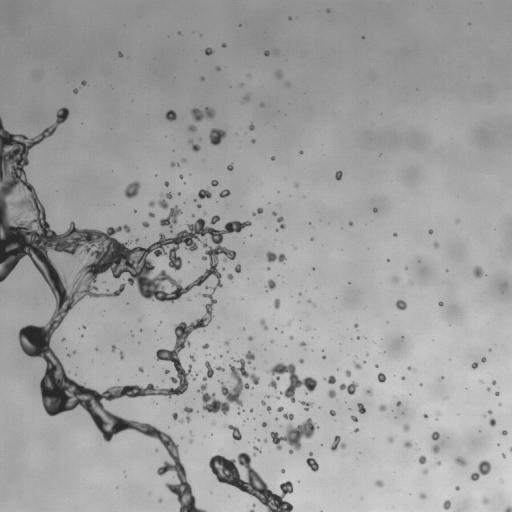droplet: (190, 106, 215, 122), (209, 128, 226, 145), (124, 181, 140, 199), (339, 381, 358, 395), (330, 435, 346, 451), (264, 278, 276, 292), (187, 139, 200, 151), (165, 109, 176, 121), (472, 266, 483, 278), (395, 299, 407, 310), (454, 456, 467, 466), (276, 216, 285, 230), (200, 117, 211, 128), (4, 122, 15, 133), (26, 128, 37, 139), (200, 137, 211, 148), (26, 148, 37, 159), (166, 170, 177, 181), (183, 202, 194, 213), (128, 218, 139, 229), (172, 222, 183, 233), (152, 223, 163, 234), (54, 224, 65, 235), (132, 224, 143, 235), (114, 231, 125, 242), (222, 232, 233, 243), (19, 255, 30, 266), (224, 259, 235, 270), (40, 282, 51, 293), (47, 294, 58, 305), (35, 316, 46, 327), (204, 322, 215, 333), (188, 329, 199, 340), (293, 346, 304, 357), (176, 349, 187, 360), (34, 356, 45, 367), (295, 368, 306, 379), (350, 370, 361, 381), (259, 372, 270, 383), (335, 372, 346, 383), (225, 377, 236, 388), (187, 379, 198, 390), (316, 380, 327, 391), (206, 382, 217, 393), (294, 385, 305, 396), (238, 389, 249, 400), (306, 390, 317, 401), (353, 390, 364, 401), (192, 398, 203, 409), (326, 398, 337, 409), (337, 409, 348, 420), (134, 412, 145, 423), (292, 415, 303, 426), (119, 428, 130, 439), (236, 441, 247, 452), (225, 449, 236, 460), (443, 457, 454, 468), (428, 465, 439, 476), (184, 471, 195, 482), (448, 491, 459, 502), (323, 375, 336, 384), (357, 402, 366, 414), (241, 92, 250, 103), (377, 372, 386, 383), (272, 297, 280, 309), (443, 499, 451, 511), (431, 444, 440, 454), (219, 189, 230, 197), (364, 387, 373, 396), (327, 389, 336, 398), (418, 455, 427, 464), (211, 42, 220, 51), (249, 96, 258, 105), (186, 115, 195, 124), (171, 166, 180, 175), (210, 186, 219, 195), (160, 208, 169, 217), (150, 217, 159, 226), (215, 221, 224, 230), (269, 288, 278, 297), (289, 339, 298, 348), (32, 386, 41, 395), (216, 393, 225, 402), (280, 396, 289, 405), (386, 399, 395, 408), (58, 410, 67, 419), (120, 411, 129, 420), (82, 412, 91, 421), (263, 413, 272, 422), (398, 415, 407, 424), (86, 418, 95, 427), (494, 421, 503, 430), (267, 422, 276, 431), (277, 427, 286, 436), (402, 431, 411, 440), (298, 435, 307, 444), (150, 436, 159, 445), (394, 437, 403, 446), (423, 449, 432, 458), (249, 459, 258, 468), (229, 485, 238, 494), (282, 493, 291, 502), (204, 47, 214, 55), (274, 69, 282, 79), (187, 124, 197, 132), (431, 431, 439, 441), (374, 479, 384, 487), (210, 179, 221, 186), (234, 262, 241, 273), (378, 403, 386, 412), (488, 418, 496, 427), (402, 423, 410, 432), (386, 435, 395, 443), (403, 440, 412, 448), (335, 170, 342, 180), (189, 352, 196, 362), (257, 505, 268, 511), (350, 415, 358, 423), (344, 369, 351, 378), (470, 362, 478, 369), (276, 406, 284, 413), (419, 492, 427, 499), (481, 496, 488, 504), (170, 161, 179, 167), (227, 162, 233, 171), (227, 273, 233, 282), (392, 276, 399, 283), (281, 74, 288, 81), (277, 78, 284, 85), (73, 80, 80, 87), (78, 85, 85, 92), (239, 88, 246, 95), (213, 111, 220, 118), (50, 114, 57, 121), (65, 114, 72, 121), (193, 120, 200, 127), (59, 121, 66, 128), (215, 123, 222, 130), (248, 130, 255, 137), (219, 137, 226, 144), (127, 176, 134, 183), (119, 184, 126, 191), (161, 186, 168, 193), (136, 187, 143, 194), (36, 193, 43, 200), (119, 193, 126, 200), (152, 195, 159, 202), (128, 196, 135, 203), (167, 200, 174, 207), (226, 215, 233, 222), (145, 216, 152, 223), (189, 217, 196, 224), (203, 220, 210, 227), (75, 223, 82, 230), (86, 223, 93, 230), (100, 226, 107, 233), (164, 231, 171, 238), (126, 242, 133, 249), (273, 248, 280, 255), (217, 252, 224, 259), (13, 264, 20, 271), (481, 266, 488, 273), (9, 269, 16, 276), (467, 270, 474, 277), (220, 275, 227, 282), (472, 276, 479, 283), (273, 277, 280, 284), (299, 295, 306, 302), (20, 320, 27, 327), (283, 329, 290, 336), (350, 329, 357, 336), (281, 333, 288, 340), (282, 359, 289, 366), (268, 360, 275, 367), (181, 363, 188, 370), (200, 367, 207, 374), (350, 367, 357, 374), (212, 369, 219, 376), (253, 369, 260, 376), (402, 369, 409, 376), (310, 372, 317, 379), (297, 373, 304, 380), (343, 378, 350, 385), (331, 382, 338, 389), (490, 384, 497, 391), (205, 387, 212, 394), (195, 392, 202, 399), (121, 394, 128, 401), (158, 394, 165, 401), (99, 397, 106, 404), (111, 397, 118, 404), (228, 400, 235, 407), (242, 402, 249, 409), (75, 404, 82, 411), (270, 404, 277, 411), (352, 409, 359, 416), (177, 411, 184, 418), (482, 417, 489, 424), (350, 421, 357, 428), (155, 423, 162, 430), (312, 428, 319, 435), (95, 430, 102, 437), (111, 433, 118, 440), (171, 435, 178, 442), (327, 437, 334, 444), (245, 448, 252, 455), (434, 452, 441, 459), (460, 452, 467, 459), (167, 457, 174, 464), (179, 457, 186, 464), (454, 463, 461, 470), (472, 465, 479, 472), (488, 468, 495, 475), (260, 474, 267, 481), (172, 477, 179, 484), (220, 481, 227, 488), (189, 482, 196, 489), (275, 488, 282, 495), (249, 495, 256, 502), (193, 501, 200, 508), (174, 502, 181, 509), (248, 122, 254, 130), (247, 335, 255, 341), (224, 338, 230, 346), (503, 505, 511, 511), (147, 212, 156, 217), (506, 451, 511, 460), (142, 221, 149, 227), (433, 241, 439, 248), (202, 343, 209, 349), (329, 409, 335, 416), (261, 421, 268, 427), (353, 323, 358, 331), (111, 344, 116, 352), (264, 50, 270, 56), (293, 182, 299, 188), (438, 376, 444, 382), (396, 400, 402, 406), (353, 427, 359, 433), (81, 80, 88, 85), (287, 335, 294, 340), (500, 430, 507, 435), (118, 51, 123, 57), (259, 102, 265, 107), (164, 181, 169, 187), (348, 220, 353, 226), (292, 244, 297, 250), (408, 280, 413, 286), (286, 320, 291, 326), (305, 325, 310, 331), (298, 358, 304, 363), (138, 366, 143, 372), (494, 391, 500, 396), (422, 413, 428, 418), (501, 452, 506, 458), (454, 485, 460, 490), (157, 497, 162, 503), (507, 428, 511, 435), (507, 500, 511, 507), (446, 507, 453, 511), (221, 42, 226, 47), (285, 82, 290, 87), (181, 158, 186, 163), (196, 203, 201, 208), (372, 207, 377, 212), (272, 211, 277, 216), (455, 218, 460, 223), (428, 229, 433, 234), (309, 236, 314, 241), (438, 301, 443, 306), (481, 357, 486, 362), (491, 380, 496, 385), (486, 386, 491, 391), (261, 400, 266, 405), (263, 438, 268, 443), (280, 468, 285, 473), (200, 46, 205, 51), (208, 53, 213, 58), (248, 94, 253, 99), (206, 102, 211, 107), (59, 103, 64, 108), (193, 103, 198, 108), (199, 106, 204, 111), (163, 107, 168, 112), (173, 108, 178, 113), (164, 118, 169, 123), (170, 119, 175, 124), (253, 125, 258, 130), (39, 126, 44, 131), (42, 137, 47, 142), (192, 139, 197, 144), (214, 143, 219, 148), (187, 144, 192, 149), (190, 149, 195, 154), (172, 157, 177, 162), (165, 161, 170, 166), (232, 163, 237, 168), (22, 165, 27, 170), (172, 165, 177, 170), (26, 178, 31, 183), (171, 191, 176, 196), (193, 193, 198, 198), (146, 196, 151, 201), (202, 196, 207, 201), (164, 197, 169, 202), (196, 197, 201, 202), (258, 203, 263, 208), (177, 204, 182, 209), (149, 207, 154, 212), (275, 212, 280, 217), (272, 215, 277, 220), (45, 217, 50, 222), (239, 218, 244, 223), (118, 221, 123, 226), (343, 221, 348, 226), (284, 223, 289, 228), (112, 224, 117, 229), (128, 224, 133, 229), (240, 227, 245, 232), (120, 228, 125, 233), (129, 228, 134, 233), (231, 230, 236, 235), (170, 233, 175, 238), (154, 236, 159, 241), (436, 238, 441, 243), (219, 241, 224, 246), (143, 243, 148, 248), (428, 243, 433, 248), (234, 254, 239, 259), (262, 255, 267, 260), (273, 258, 278, 263), (31, 265, 36, 270), (215, 265, 220, 270), (240, 266, 245, 271), (231, 270, 236, 275), (36, 272, 41, 277), (480, 274, 485, 279), (263, 280, 268, 285), (215, 286, 220, 291), (211, 294, 216, 299), (393, 296, 398, 301), (401, 296, 406, 301), (310, 297, 315, 302), (269, 300, 274, 305), (279, 300, 284, 305), (405, 301, 410, 306), (306, 302, 311, 307), (211, 303, 216, 308), (393, 306, 398, 311), (274, 308, 279, 313), (396, 308, 401, 313), (254, 319, 259, 324), (264, 320, 269, 325), (290, 320, 295, 325), (348, 323, 353, 328), (258, 324, 263, 329), (268, 325, 273, 330), (277, 325, 282, 330), (197, 326, 202, 331), (14, 329, 19, 334), (263, 329, 268, 334), (307, 330, 312, 335), (249, 331, 254, 336), (286, 339, 291, 344), (222, 344, 227, 349), (17, 346, 22, 351), (203, 348, 208, 353), (222, 352, 227, 357), (253, 352, 258, 357), (299, 353, 304, 358), (25, 354, 30, 359), (362, 355, 367, 360), (206, 356, 211, 361), (468, 359, 473, 364), (477, 361, 482, 366), (209, 362, 214, 367), (235, 362, 240, 367), (360, 363, 365, 368), (225, 366, 230, 371), (375, 368, 380, 373), (384, 373, 389, 378), (206, 377, 211, 382), (199, 379, 204, 384), (248, 381, 253, 386), (487, 382, 492, 387), (268, 385, 273, 390), (313, 385, 318, 390), (227, 386, 232, 391), (354, 386, 359, 391), (241, 387, 246, 392), (342, 388, 347, 393), (171, 393, 176, 398), (177, 393, 182, 398), (280, 393, 285, 398), (349, 393, 354, 398), (136, 395, 141, 400), (285, 396, 290, 401), (326, 396, 331, 401), (381, 399, 386, 404), (376, 400, 381, 405), (186, 402, 191, 407), (363, 404, 368, 409), (261, 405, 266, 410), (244, 407, 249, 412), (334, 408, 339, 413), (41, 409, 46, 414), (202, 409, 207, 414), (217, 409, 222, 414), (280, 409, 285, 414), (364, 409, 369, 414), (188, 411, 193, 416), (209, 411, 214, 416), (247, 412, 252, 417), (489, 413, 494, 418), (168, 415, 173, 420), (285, 418, 290, 423), (310, 418, 315, 423), (494, 418, 499, 423), (232, 422, 237, 427), (408, 423, 413, 428), (257, 424, 262, 429), (398, 426, 403, 431), (238, 427, 243, 432), (427, 430, 432, 435), (386, 431, 391, 436), (185, 433, 190, 438), (240, 433, 245, 438), (426, 433, 431, 438), (228, 435, 233, 440), (267, 436, 272, 441), (339, 437, 344, 442), (279, 439, 284, 444), (383, 439, 388, 444), (432, 439, 437, 444), (254, 441, 259, 446), (271, 442, 276, 447), (411, 443, 416, 448), (345, 444, 350, 449), (402, 446, 407, 451), (407, 446, 412, 451), (438, 447, 443, 452), (292, 448, 297, 453), (504, 450, 509, 455), (211, 451, 216, 456), (414, 455, 419, 460), (425, 456, 430, 461), (479, 456, 484, 461), (484, 456, 489, 461), (205, 457, 210, 462), (315, 458, 320, 463), (414, 460, 419, 465), (489, 461, 494, 466), (422, 462, 427, 467), (305, 465, 310, 470), (435, 465, 440, 470), (206, 466, 211, 471), (427, 468, 432, 473), (466, 471, 471, 476), (211, 473, 216, 478), (478, 473, 483, 478), (377, 475, 382, 480), (281, 478, 286, 483), (469, 479, 474, 484), (291, 481, 296, 486), (375, 485, 380, 490), (419, 488, 424, 493), (424, 489, 429, 494), (191, 490, 196, 495), (242, 491, 247, 496), (172, 493, 177, 498), (153, 495, 158, 500), (477, 496, 482, 501), (417, 497, 422, 502), (423, 497, 428, 502), (487, 497, 492, 502), (439, 499, 444, 504), (438, 502, 443, 507), (449, 503, 454, 508), (482, 503, 487, 508), (501, 504, 506, 509), (185, 297, 191, 301), (478, 379, 484, 383), (326, 8, 330, 13), (216, 66, 220, 71), (200, 76, 204, 81), (239, 82, 243, 87), (251, 138, 255, 143), (179, 174, 183, 179), (135, 238, 139, 243), (82, 324, 86, 329), (61, 337, 65, 342), (226, 348, 230, 353), (401, 376, 405, 381), (443, 396, 448, 400), (249, 408, 253, 413), (499, 478, 503, 483), (288, 16, 292, 20), (361, 35, 365, 39), (299, 150, 303, 154), (271, 156, 275, 160), (203, 211, 207, 215), (191, 213, 195, 217), (275, 228, 279, 232), (393, 232, 397, 236), (386, 258, 390, 262), (266, 266, 270, 270), (216, 325, 220, 329), (72, 350, 76, 354), (66, 353, 70, 357), (365, 352, 369, 356), (322, 355, 326, 359), (374, 364, 378, 368), (498, 402, 502, 406), (274, 417, 278, 421), (176, 192, 181, 195), (133, 208, 136, 213), (313, 286, 318, 289), (290, 508, 295, 511), (441, 508, 446, 511), (177, 31, 181, 34), (199, 137, 202, 141), (182, 181, 186, 184), (308, 221, 311, 225), (417, 259, 420, 263), (221, 267, 225, 270), (404, 266, 407, 270), (347, 281, 351, 284), (298, 291, 301, 295), (356, 336, 360, 339), (401, 336, 404, 340), (136, 341, 140, 344), (270, 340, 274, 343), (419, 382, 422, 386), (317, 406, 321, 409), (211, 421, 215, 424), (155, 448, 158, 452), (227, 495, 231, 498), (468, 22, 471, 25), (238, 24, 241, 27), (154, 174, 157, 177), (183, 201, 186, 204), (312, 267, 315, 270), (445, 269, 448, 272), (242, 327, 245, 330), (274, 327, 277, 330), (131, 334, 134, 337), (284, 344, 287, 347), (321, 349, 324, 352), (488, 348, 491, 351), (219, 354, 222, 357), (355, 355, 358, 358), (161, 379, 164, 382), (250, 393, 253, 396), (348, 407, 351, 410), (196, 410, 199, 413), (180, 436, 183, 439), (320, 443, 323, 446), (497, 443, 500, 446), (358, 451, 361, 454), (297, 480, 300, 483), (323, 7, 326, 10), (329, 7, 332, 10), (327, 12, 330, 15), (284, 16, 287, 19), (291, 16, 294, 19), (287, 19, 290, 22), (238, 20, 241, 23), (240, 25, 243, 28), (180, 31, 183, 34), (363, 33, 366, 36), (177, 34, 180, 37), (358, 35, 361, 38), (360, 38, 363, 41), (218, 42, 221, 45), (225, 42, 228, 45), (205, 44, 208, 47), (220, 46, 223, 49), (120, 50, 123, 53), (269, 50, 272, 53), (115, 52, 118, 55), (202, 52, 205, 55), (264, 55, 267, 58), (119, 56, 122, 59), (219, 65, 222, 68), (212, 66, 215, 69), (214, 69, 217, 72), (203, 74, 206, 77), (79, 78, 82, 81), (203, 78, 206, 81), (80, 84, 83, 87), (72, 92, 75, 95), (247, 122, 250, 125), (252, 122, 255, 125), (53, 130, 56, 133), (20, 131, 23, 134), (254, 140, 257, 143), (249, 141, 252, 144), (298, 147, 301, 150), (302, 150, 305, 153), (171, 151, 174, 154), (299, 153, 302, 156), (268, 154, 271, 157), (380, 154, 383, 157), (274, 156, 277, 159), (272, 159, 275, 162), (178, 161, 181, 164), (227, 161, 230, 164), (335, 168, 338, 171), (226, 169, 229, 172), (151, 172, 154, 175), (332, 172, 335, 175), (156, 174, 159, 177), (340, 175, 343, 178), (182, 176, 185, 179), (211, 176, 214, 179), (177, 177, 180, 180), (337, 179, 340, 182), (217, 180, 220, 183), (161, 181, 164, 184), (184, 183, 187, 186), (298, 183, 301, 186), (162, 184, 165, 187), (167, 184, 170, 187), (203, 187, 206, 190), (227, 187, 230, 190), (276, 187, 279, 190), (177, 188, 180, 191), (279, 189, 282, 192), (180, 191, 183, 194), (225, 195, 228, 198), (266, 198, 269, 201), (42, 204, 45, 207), (198, 207, 201, 210), (274, 209, 277, 212), (370, 210, 373, 213), (44, 211, 47, 214), (131, 211, 134, 214), (135, 211, 138, 214), (374, 211, 377, 214), (259, 212, 262, 215), (218, 214, 221, 217), (305, 220, 308, 223), (310, 220, 313, 223), (352, 221, 355, 224), (308, 224, 311, 227), (349, 225, 352, 228), (143, 226, 146, 229), (427, 226, 430, 229), (431, 227, 434, 230), (272, 229, 275, 232), (393, 229, 396, 232), (425, 230, 428, 233), (275, 231, 278, 234), (389, 232, 392, 235), (396, 232, 399, 235), (431, 232, 434, 235), (428, 233, 431, 236), (251, 235, 254, 238), (393, 236, 396, 239), (306, 237, 309, 240), (312, 239, 315, 242), (242, 243, 245, 246), (234, 249, 237, 252), (284, 254, 287, 257), (388, 256, 391, 259), (417, 256, 420, 259), (383, 258, 386, 261), (386, 261, 389, 264), (415, 261, 418, 264), (312, 264, 315, 267), (308, 266, 311, 269), (407, 266, 410, 269), (443, 266, 446, 269), (263, 267, 266, 270), (447, 267, 450, 270), (314, 268, 317, 271), (310, 269, 313, 272), (238, 271, 241, 274), (444, 271, 447, 274), (279, 273, 282, 276), (348, 278, 351, 281), (346, 283, 349, 286), (349, 283, 352, 286), (300, 290, 303, 293), (295, 293, 298, 296), (305, 296, 308, 299), (439, 298, 442, 301), (442, 301, 445, 304), (438, 305, 441, 308), (210, 318, 213, 321), (353, 320, 356, 323), (356, 325, 359, 328), (239, 326, 242, 329), (244, 326, 247, 329), (281, 327, 284, 330), (353, 327, 356, 330), (277, 329, 280, 332), (356, 332, 359, 335), (400, 332, 403, 335), (364, 333, 367, 336), (292, 334, 295, 337), (353, 336, 356, 339), (359, 336, 362, 339), (398, 336, 401, 339), (224, 337, 227, 340), (252, 337, 255, 340), (292, 337, 295, 340), (402, 337, 405, 340), (299, 338, 302, 341), (228, 340, 231, 343), (249, 340, 252, 343), (304, 340, 307, 343), (207, 341, 210, 344), (221, 341, 224, 344), (267, 341, 270, 344), (201, 342, 204, 345), (272, 342, 275, 345), (304, 344, 307, 347), (490, 346, 493, 349), (485, 347, 488, 350), (318, 348, 321, 351), (228, 349, 231, 352), (380, 349, 383, 352), (244, 350, 247, 353), (367, 350, 370, 353), (219, 351, 222, 354), (321, 352, 324, 355), (211, 353, 214, 356), (216, 354, 219, 357), (193, 355, 196, 358), (236, 356, 239, 359), (485, 356, 488, 359), (319, 357, 322, 360), (324, 357, 327, 360), (303, 359, 306, 362), (377, 363, 380, 366), (406, 363, 409, 366), (220, 364, 223, 367), (335, 364, 338, 367), (410, 365, 413, 368), (475, 366, 478, 369), (190, 367, 193, 370), (470, 367, 473, 370), (440, 372, 443, 375), (400, 373, 403, 376), (398, 376, 401, 379), (404, 376, 407, 379), (375, 378, 378, 381), (441, 378, 444, 381), (257, 379, 260, 382), (384, 379, 387, 382), (495, 379, 498, 382), (379, 381, 382, 384), (422, 382, 425, 385), (418, 385, 421, 388), (496, 388, 499, 391), (464, 389, 467, 392), (484, 389, 487, 392), (405, 392, 408, 395), (498, 392, 501, 395), (277, 393, 280, 396), (408, 395, 411, 398), (495, 395, 498, 398), (400, 400, 403, 403), (393, 401, 396, 404), (258, 402, 261, 405), (182, 404, 185, 407), (398, 404, 401, 407), (499, 405, 502, 408), (330, 406, 333, 409), (238, 408, 241, 411), (252, 408, 255, 411), (327, 412, 330, 415), (426, 412, 429, 415), (395, 413, 398, 416), (391, 414, 394, 417), (331, 415, 334, 418), (433, 415, 436, 418), (437, 415, 440, 418), (243, 416, 246, 419), (396, 416, 399, 419), (423, 417, 426, 420), (245, 419, 248, 422), (188, 420, 191, 423), (259, 420, 262, 423), (502, 427, 505, 430), (433, 428, 436, 431), (272, 429, 275, 432), (436, 429, 439, 432), (356, 430, 359, 433), (191, 431, 194, 434), (352, 431, 355, 434), (207, 432, 210, 435), (212, 432, 215, 435), (336, 432, 339, 435), (503, 434, 506, 437), (209, 435, 212, 438), (256, 435, 259, 438), (191, 436, 194, 439), (253, 438, 256, 441), (259, 438, 262, 441), (234, 439, 237, 442), (319, 440, 322, 443), (191, 441, 194, 444), (411, 441, 414, 444), (493, 442, 496, 445), (499, 443, 502, 446), (319, 445, 322, 448), (260, 448, 263, 451), (276, 449, 279, 452), (152, 450, 155, 453), (499, 454, 502, 457), (440, 459, 443, 462), (279, 466, 282, 469), (317, 466, 320, 469), (284, 469, 287, 472), (278, 470, 281, 473), (124, 471, 127, 474), (121, 473, 124, 476), (457, 483, 460, 486), (452, 485, 455, 488), (292, 488, 295, 491), (454, 489, 457, 492), (160, 501, 163, 504), (318, 507, 321, 510), (102, 281, 106, 283), (140, 328, 142, 332), (379, 153, 381, 156), (277, 190, 279, 193), (303, 195, 305, 198), (264, 226, 266, 229), (250, 234, 252, 237), (187, 261, 190, 263), (241, 297, 243, 300), (386, 321, 389, 323), (281, 330, 283, 333), (81, 334, 83, 337), (213, 356, 215, 359), (68, 370, 70, 373), (74, 373, 77, 375), (252, 417, 255, 419), (394, 416, 396, 419), (279, 424, 281, 427), (253, 428, 256, 430), (478, 430, 481, 432), (248, 440, 250, 443), (200, 34, 202, 36), (81, 122, 83, 124), (172, 149, 174, 151), (189, 173, 191, 175), (268, 202, 270, 204), (144, 236, 146, 238), (277, 274, 279, 276), (485, 274, 487, 276), (247, 277, 249, 279), (194, 295, 196, 297), (126, 302, 128, 304), (299, 327, 301, 329), (154, 329, 156, 331), (130, 330, 132, 332), (311, 336, 313, 338), (350, 338, 352, 340), (264, 348, 266, 350), (311, 349, 313, 351), (449, 358, 451, 360), (152, 365, 154, 367), (465, 387, 467, 389), (409, 393, 411, 395), (202, 415, 204, 417), (372, 437, 374, 439), (123, 470, 125, 472), (124, 475, 126, 477), (172, 476, 174, 478), (240, 205, 241, 207), (291, 296, 293, 297), (335, 297, 337, 298), (339, 343, 341, 344), (383, 351, 385, 352), (344, 402, 346, 403), (409, 493, 410, 495), (153, 401, 154, 402), (211, 433, 212, 434)
ligament: (470, 460, 491, 481), (222, 423, 241, 443), (421, 457, 441, 474), (266, 251, 286, 264), (306, 451, 319, 471), (252, 207, 263, 217), (259, 318, 268, 330), (307, 298, 316, 308), (481, 409, 492, 417), (406, 365, 416, 372), (188, 430, 193, 444), (119, 350, 124, 360), (73, 86, 80, 93), (242, 417, 248, 425), (266, 405, 271, 414), (138, 315, 144, 322), (264, 394, 273, 398), (254, 437, 260, 442), (94, 347, 100, 351), (158, 321, 162, 326), (205, 353, 210, 357), (508, 446, 511, 452), (336, 368, 340, 370), (360, 496, 362, 500), (392, 374, 395, 376), (453, 510, 459, 511), (320, 510, 323, 511)
